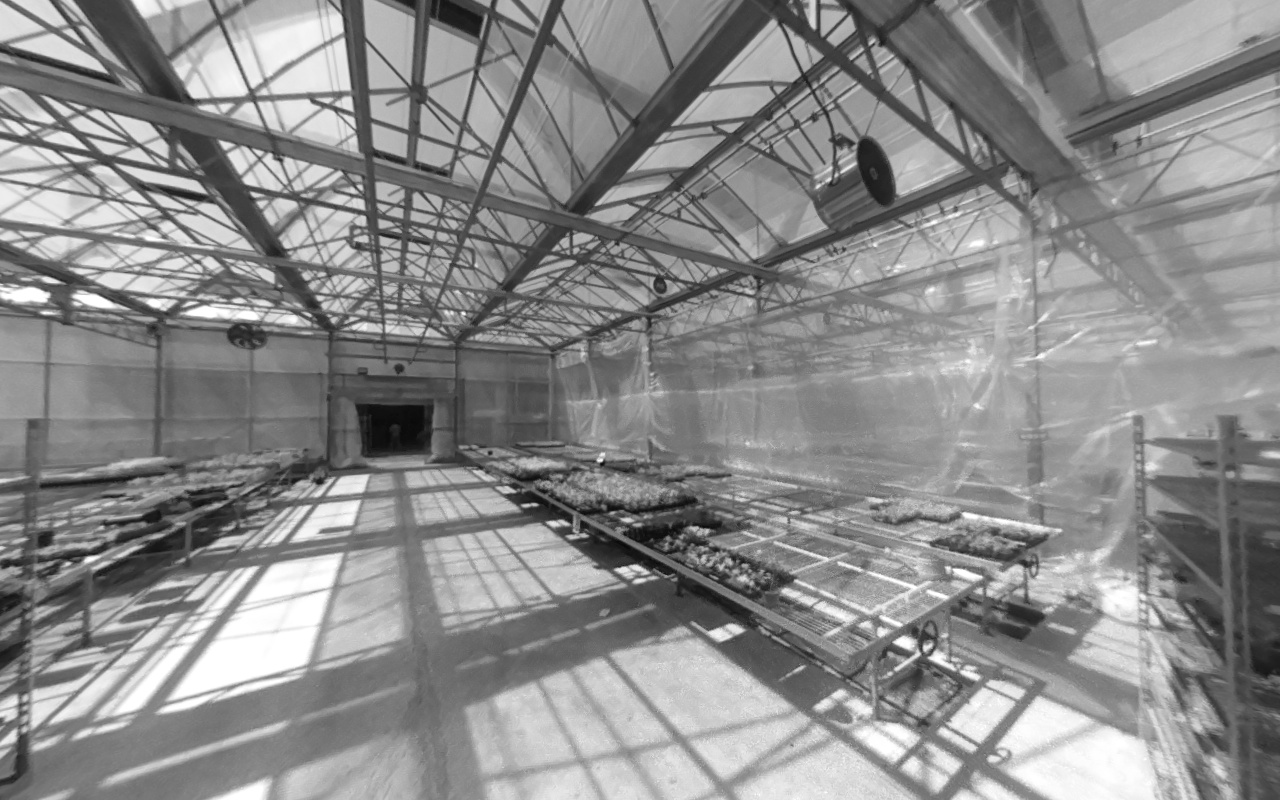fan: (806, 130, 900, 231), (222, 316, 274, 353)
